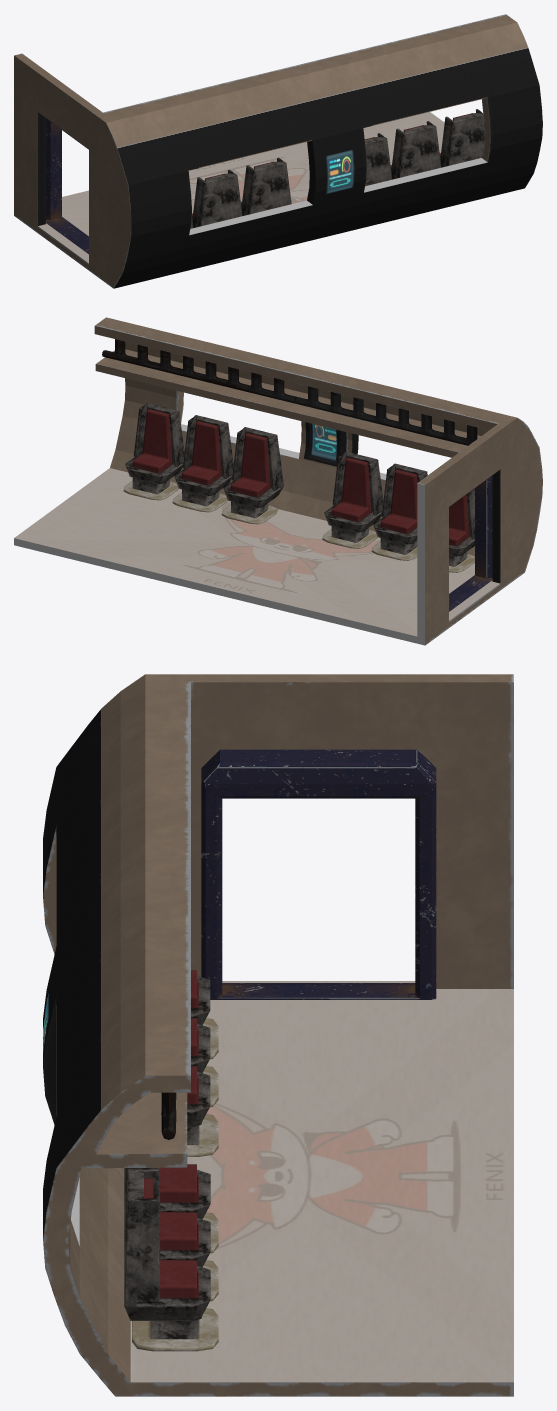
Rendered from MM_Vagon_2.fbx.
3 views of the same model, one above another, from view 1: azimuth 30°, elevation 25°; view 2: azimuth 150°, elevation 25°; view 3: azimuth 270°, elevation 25° (orthographic). The views are drawn at different scales.
Visible parts, largest first — view 1: Cube, Cube.001, Cube.003, Cube.002; view 2: Cube, Cube.001, Cube.003, Cube.004, Cube.002; view 3: Cube, Cube.002, Cube.001, Cube.003.
Part boxes in pixels (x1=…): Cube: x1=14, y1=14, x2=542, y2=288; Cube.001: x1=364, y1=109, x2=484, y2=186; Cube.003: x1=190, y1=157, x2=291, y2=228; Cube.002: x1=45, y1=118, x2=88, y2=254; Cube: x1=14, y1=317, x2=542, y2=645; Cube.001: x1=123, y1=403, x2=283, y2=524; Cube.003: x1=322, y1=451, x2=474, y2=572; Cube.004: x1=102, y1=339, x2=477, y2=445; Cube.002: x1=449, y1=476, x2=492, y2=611; Cube: x1=43, y1=674, x2=513, y2=1396; Cube.002: x1=201, y1=749, x2=436, y2=999; Cube.001: x1=124, y1=1164, x2=218, y2=1351; Cube.003: x1=187, y1=970, x2=218, y2=1156.
Size of the model in its own units: 600 by 224 by 298.
7 materials, 7 textured.
